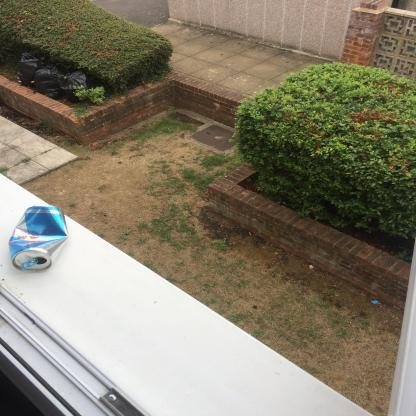metal: (9, 206, 71, 274)
